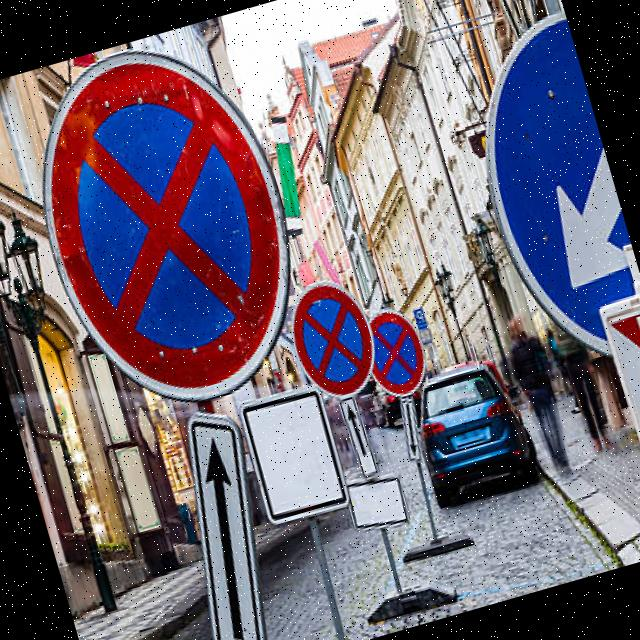no_parking: (0, 14, 333, 431), (275, 272, 391, 413), (354, 300, 444, 408)
